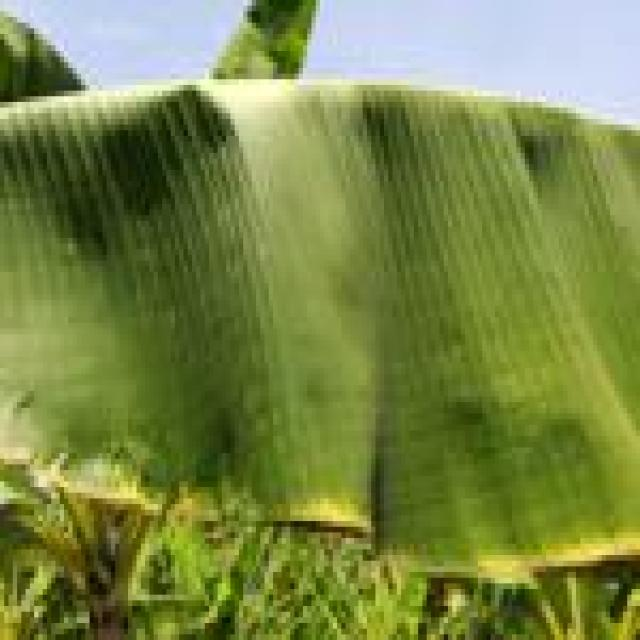Early_rust: (0, 406, 640, 606)
